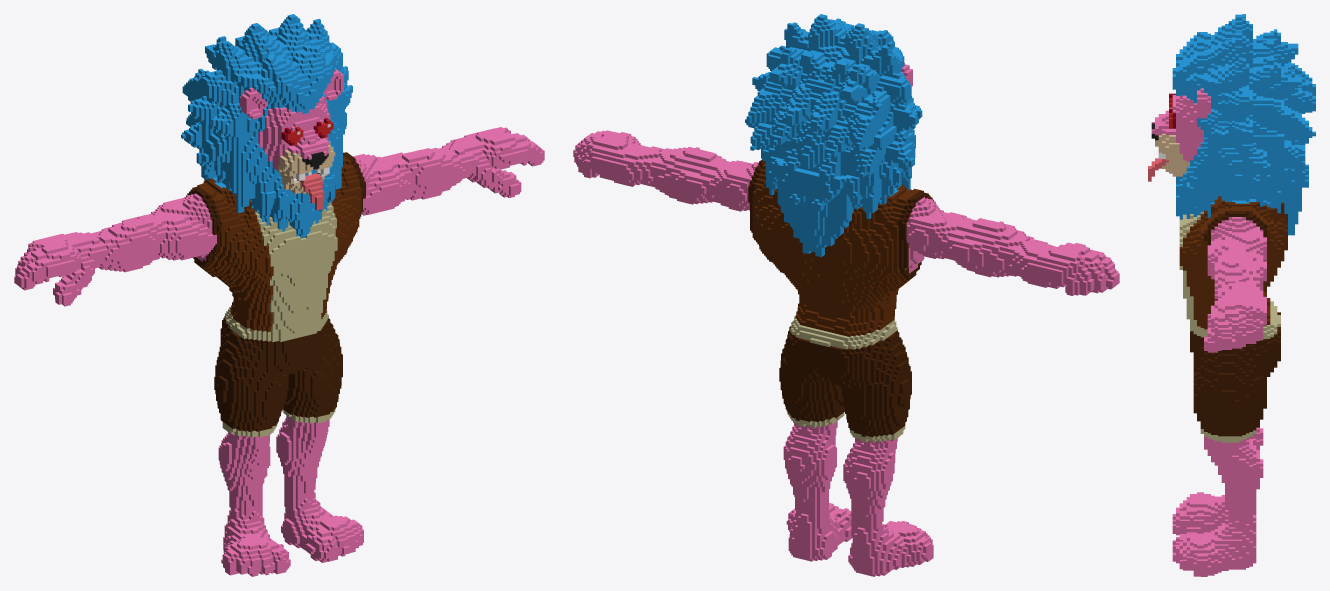
File: 339-Dq_buKUA.glb
3 renders of one model, left to right at view 1: azimuth 30°, elevation 25°; view 2: azimuth 150°, elevation 25°; view 3: azimuth 270°, elevation 25°, orthographic. The views are drawn at different scales.
Parts seen in each view (by area): view 1: tongue_out; view 2: tongue_out; view 3: tongue_out.
Part boxes in pixels (x1=…): tongue_out: x1=14, y1=14, x2=544, y2=576; tongue_out: x1=573, y1=14, x2=1119, y2=576; tongue_out: x1=1148, y1=14, x2=1315, y2=576.
Bounding box in the file's own units: 17.2 × 16.5 × 4.8.
5 materials, 5 textured.
